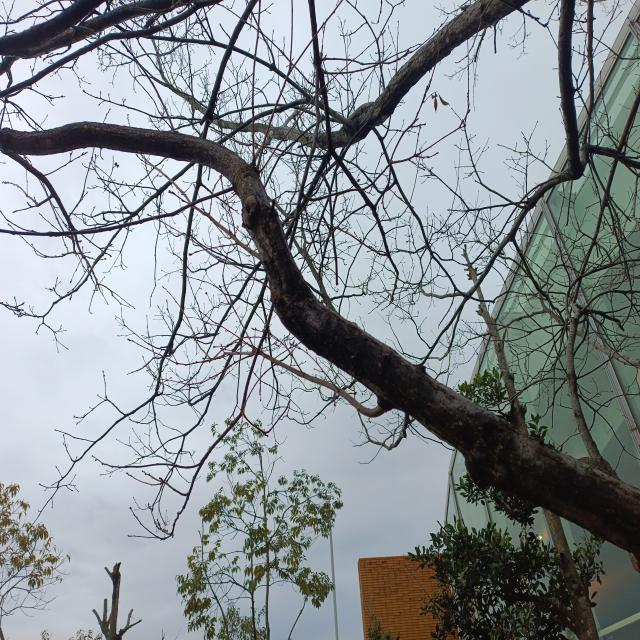Branch: (0, 122, 640, 562), (151, 0, 532, 148), (0, 0, 105, 55)
Twig: (479, 170, 571, 283), (558, 0, 584, 180), (464, 280, 479, 302)
